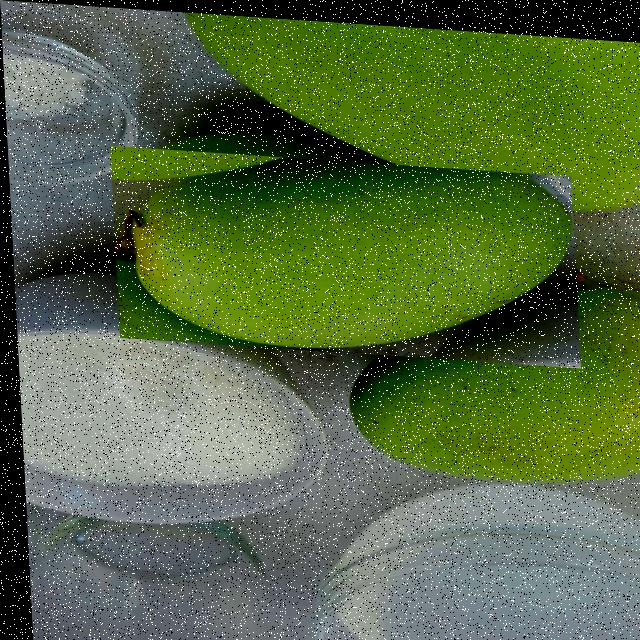raw-image: (109, 144, 577, 361), (175, 10, 640, 217)
